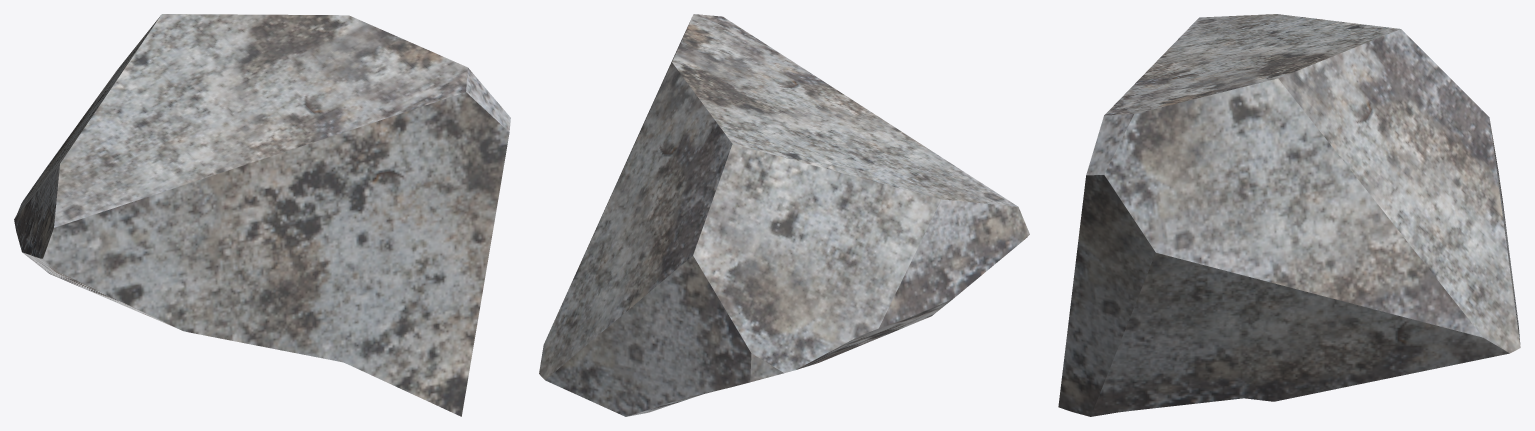
The model's file is Asteroid_Large_001_02_012_03_004.fbx.
The picture shows the model from 3 angles, left to right: view 1: azimuth 30°, elevation 25°; view 2: azimuth 150°, elevation 25°; view 3: azimuth 270°, elevation 25°; orthographic projection. The views are drawn at different scales.
Visible parts, largest first — view 1: Asteroid_Large_001_02_012_03_004; view 2: Asteroid_Large_001_02_012_03_004; view 3: Asteroid_Large_001_02_012_03_004.
Boxes of the visible parts, left/top/right/bottom form: Asteroid_Large_001_02_012_03_004: left=14, top=14, right=510, bottom=416; Asteroid_Large_001_02_012_03_004: left=539, top=14, right=1029, bottom=416; Asteroid_Large_001_02_012_03_004: left=1058, top=14, right=1520, bottom=416.
Bounding box in the file's own units: 11.25 × 8.03 × 10.24.
